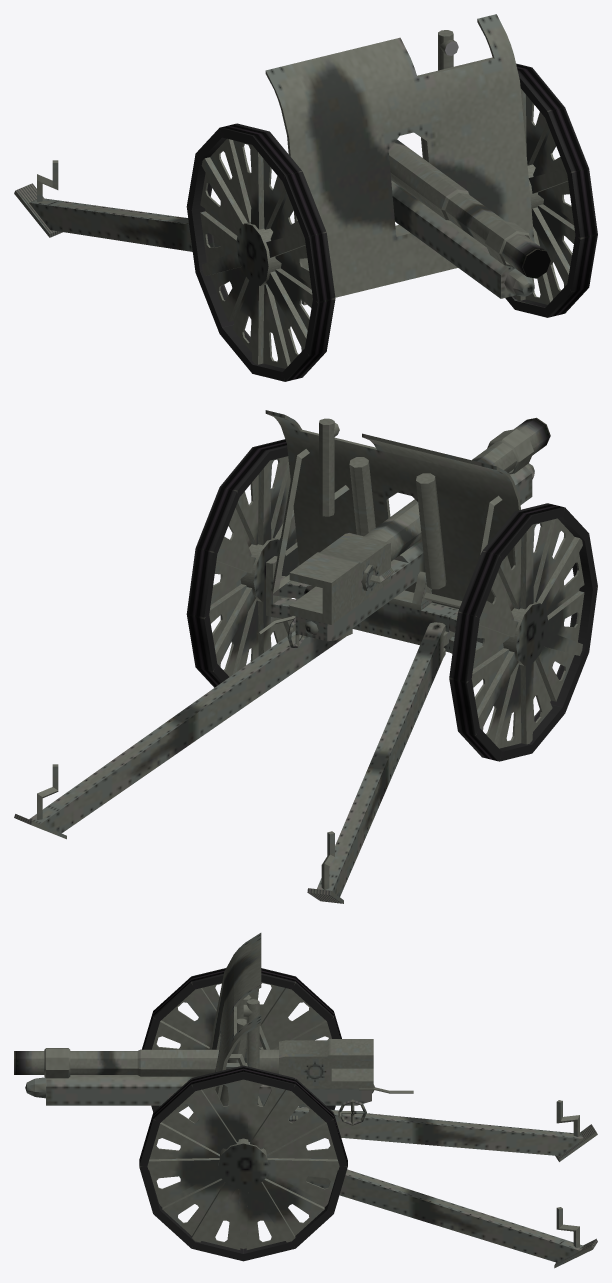
File: SWEKanonM02_33.dae
The picture shows the model from 3 angles, top to bottom: view 1: azimuth 30°, elevation 25°; view 2: azimuth 150°, elevation 25°; view 3: azimuth 270°, elevation 25°; orthographic projection. The views are drawn at different scales.
Parts seen in each view (by area): view 1: turret, wheels, sleeve, trail2, barrel; view 2: wheels, turret, trail1, barrel, trail2, sleeve, carriage; view 3: wheels, barrel, trail1, trail2, sleeve, turret.
Part boxes in pixels (<box>): turret: <box>265,14,534,305</box>; wheels: <box>186,63,597,381</box>; sleeve: <box>391,180,534,298</box>; trail2: <box>14,160,220,251</box>; barrel: <box>388,139,550,278</box>; wheels: <box>186,439,597,761</box>; turret: <box>265,410,520,610</box>; trail1: <box>14,628,352,839</box>; barrel: <box>289,417,550,624</box>; trail2: <box>307,622,445,903</box>; sleeve: <box>257,429,534,647</box>; carriage: <box>266,556,483,653</box>; wheels: <box>139,968,347,1261</box>; barrel: <box>14,1039,373,1088</box>; trail1: <box>306,1169,597,1268</box>; trail2: <box>263,1100,597,1161</box>; sleeve: <box>25,1048,413,1125</box>; turret: <box>209,933,297,1121</box>.
Bounding box in the file's own units: 15.29 × 30.73 × 13.6.
